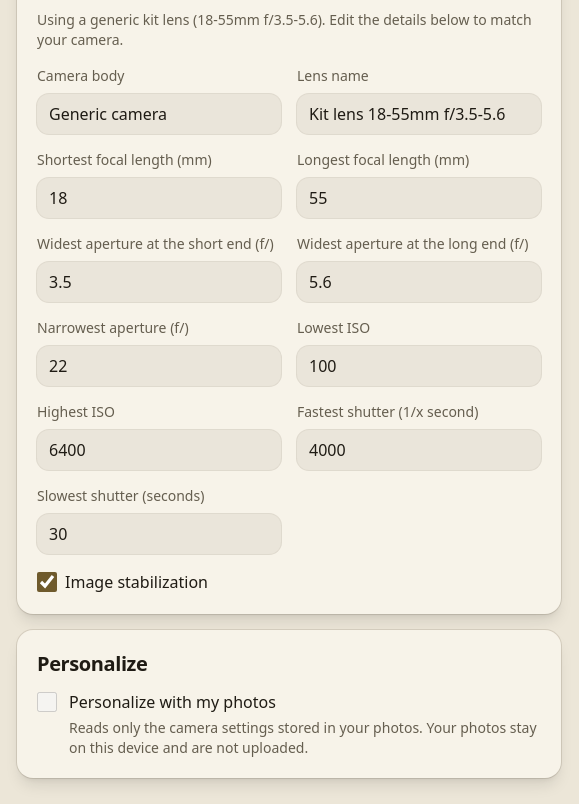
it: App › keeps edited gear after remount and drops the defaults hint
Later steps or results of the test are not shown.
(page scrolled)
Replace the text in the number field labelled "Highest ISO" with "12800" at {"x": 159, "y": 450}, box [37,430,281,470]
(page scrolled)
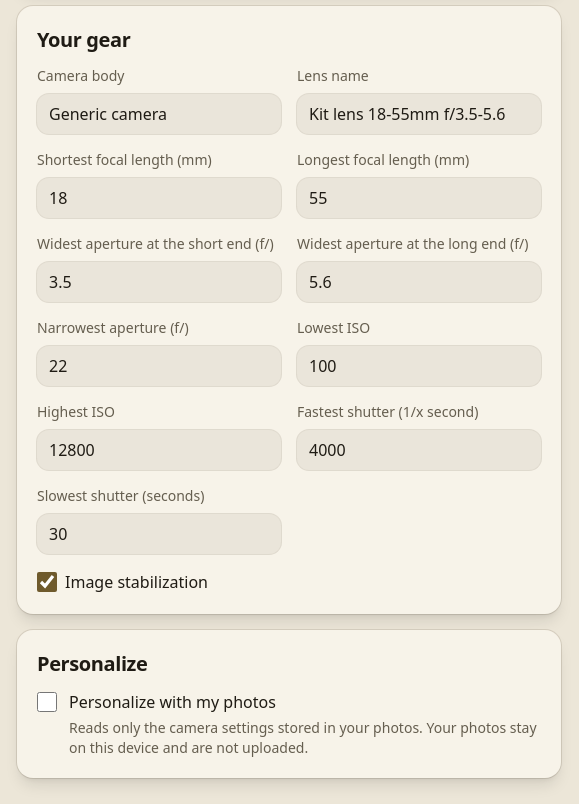
Result: the text "generic kit lens" is gone
